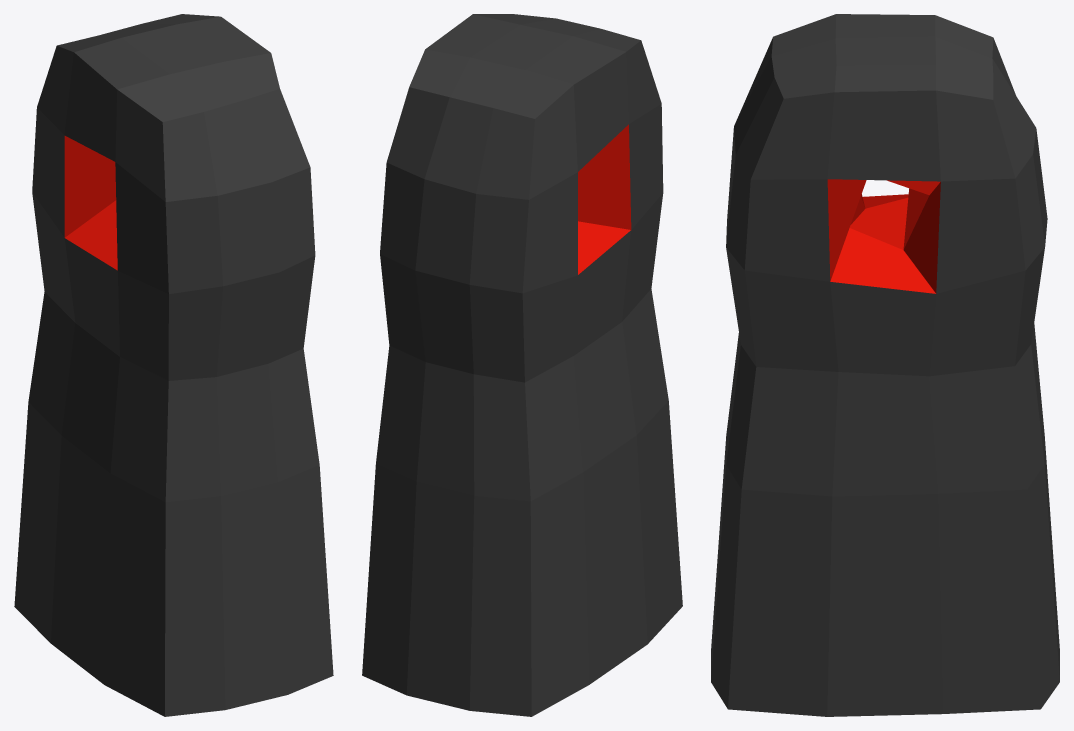
The model's file is coolrock2.fbx.
The picture shows the model from 3 angles, left to right: view 1: azimuth 30°, elevation 25°; view 2: azimuth 150°, elevation 25°; view 3: azimuth 270°, elevation 25°; orthographic projection. The views are drawn at different scales.
Visible parts, largest first — view 1: coolrock2; view 2: coolrock2; view 3: coolrock2.
Part boxes in pixels (x1,y1,x2,y2): coolrock2: [14, 14, 333, 716]; coolrock2: [362, 14, 682, 716]; coolrock2: [711, 14, 1059, 716].
Bounding box in the file's own units: 155 × 448 × 230.
